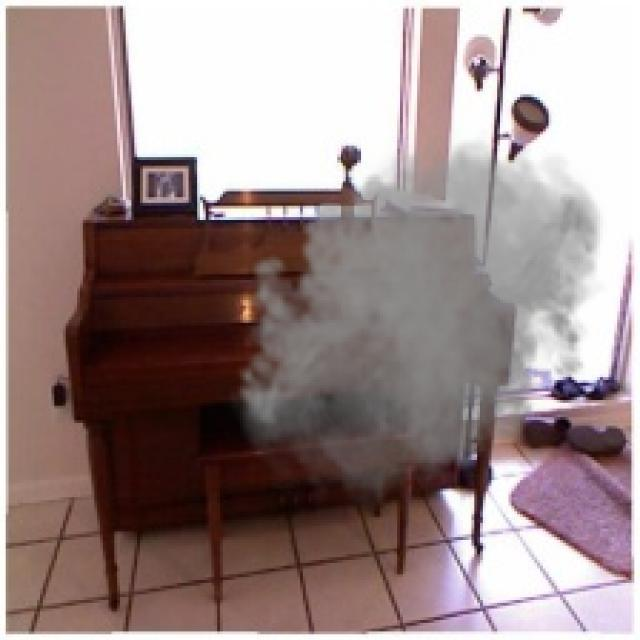Smoke: (226, 128, 608, 520)
